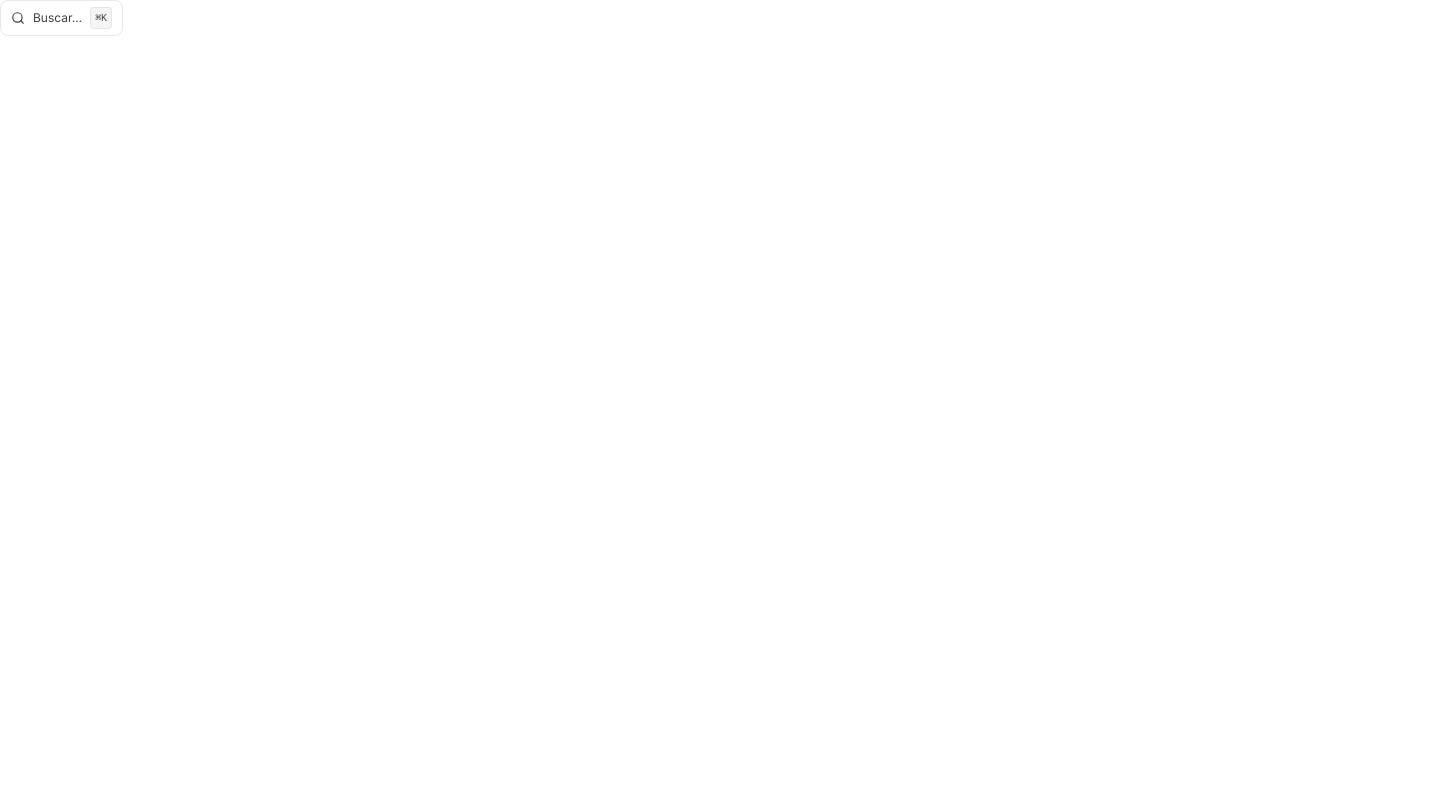
Test: CommandPalette — busca mobile (regressão Roberto Rocha) › abre via CustomEvent disparado pelo botão de busca (compatível com touch/mobile)
Expected: the field with placeholder "Buscar orçamentos" is not shown
// Simula o tap no botão da header mobile (mesmo fluxo que falhava com KeyboardEvent sintético).
What coordinates should you click on to do the following:
click the button "Buscar... ⌘K"
I would click on:
 (62, 18)
Its box is [0, 0, 123, 36].
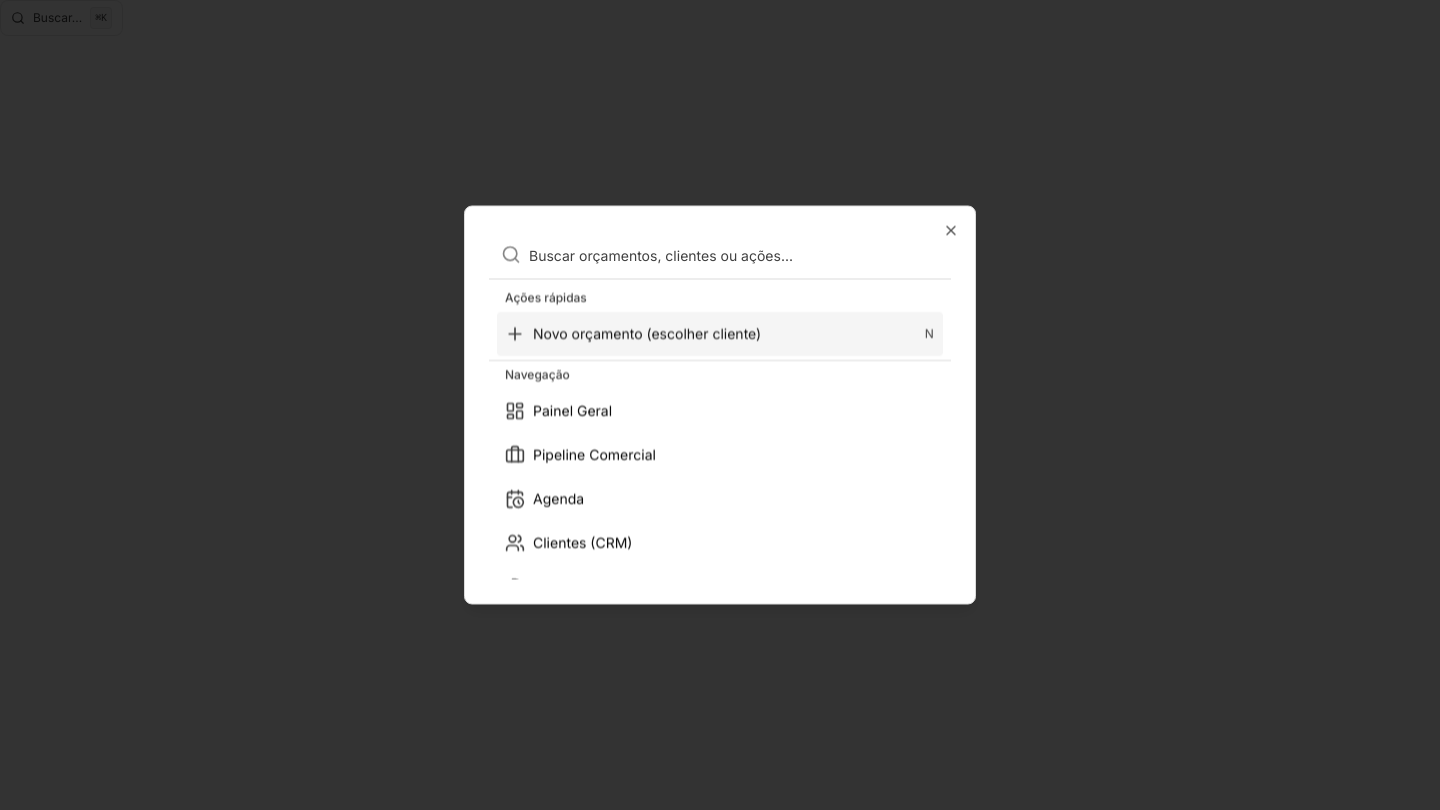
Expected: the dropdown with placeholder "Buscar orçamentos, clientes ou ações..." is shown, [529, 230, 939, 278]
